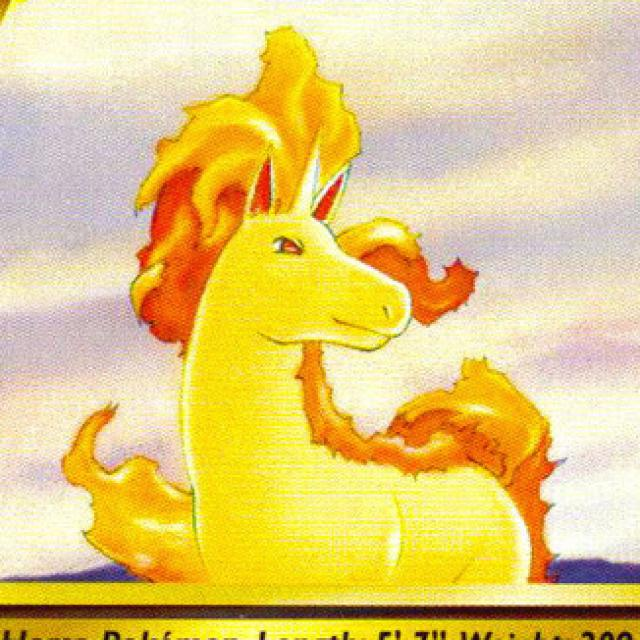Rapidash: (163, 122, 539, 580)
